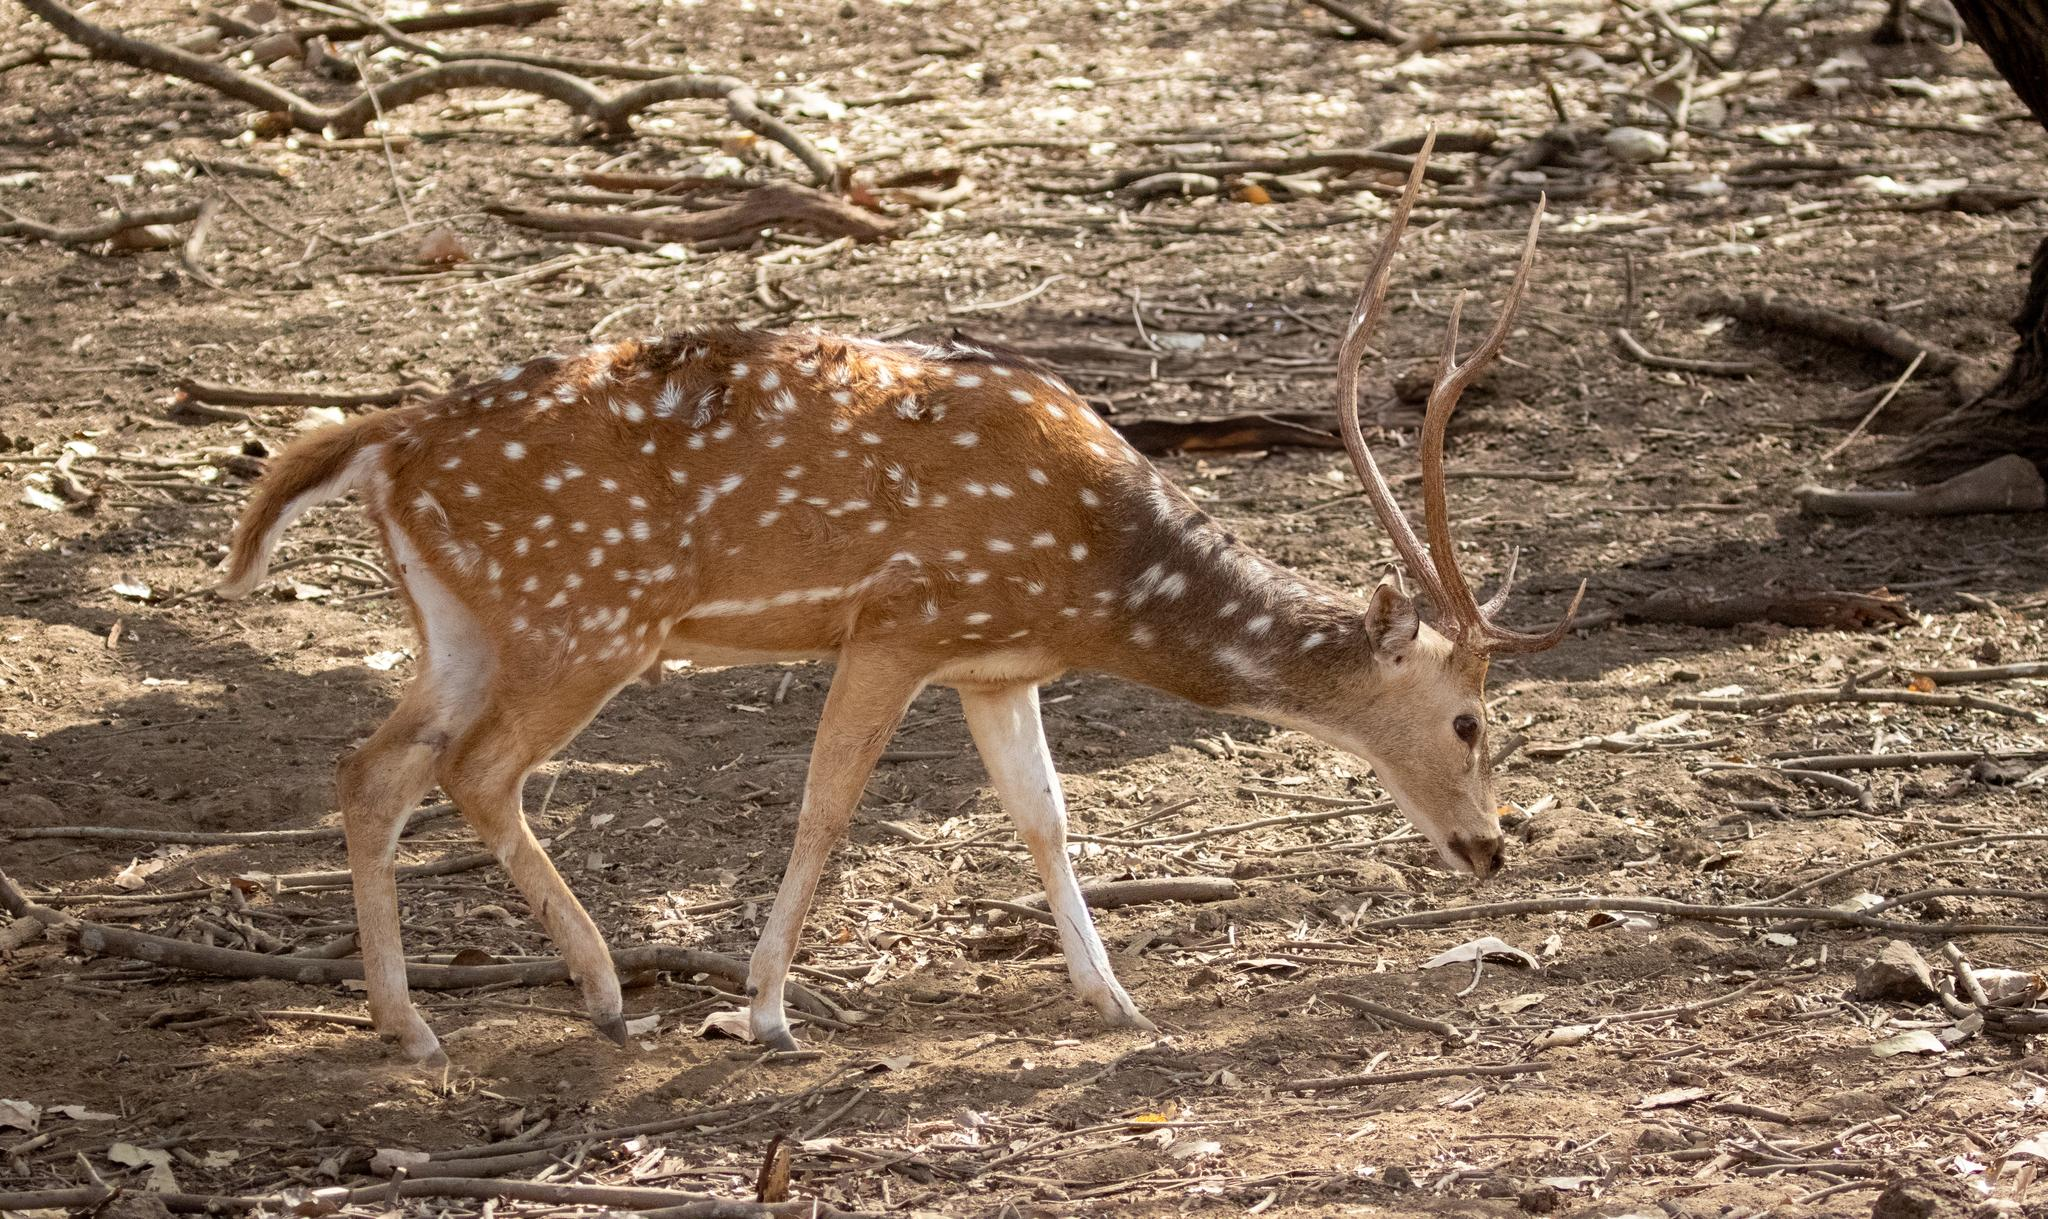Deer: (216, 147, 1568, 1064)
